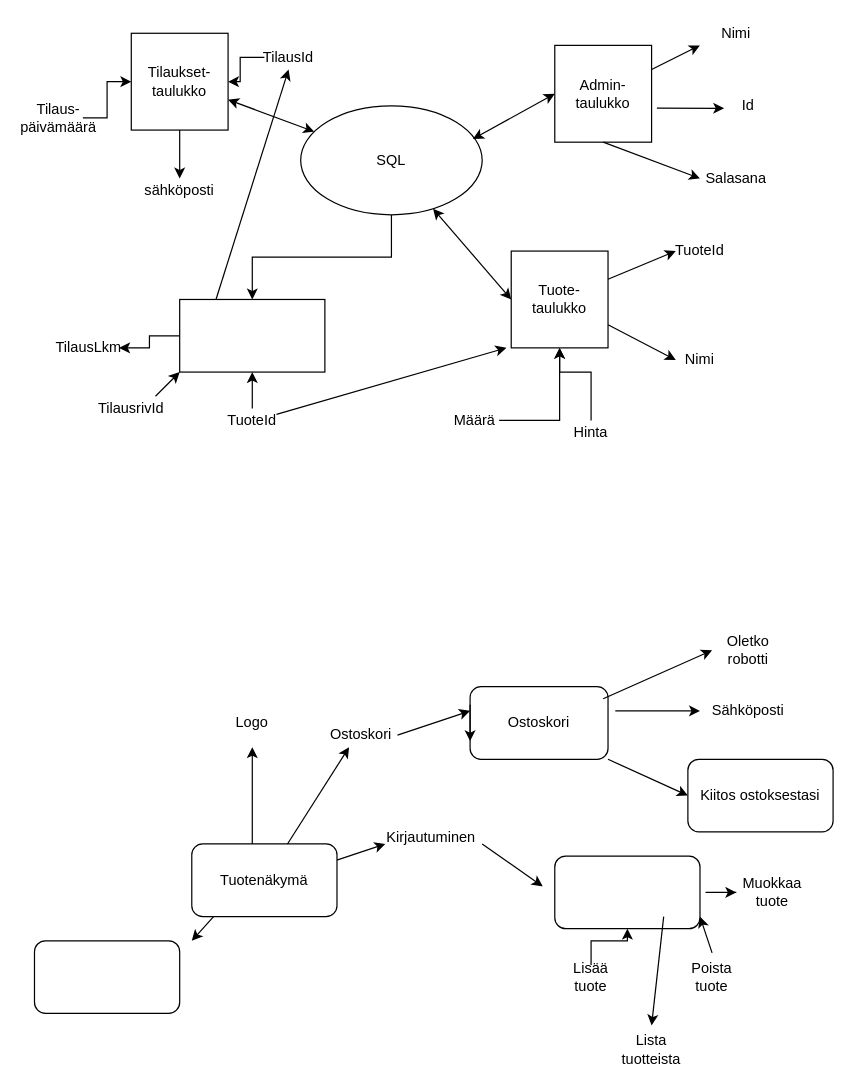
Some shapes in this 854 by 1088 pixel diagram are drawn without their labels. The shapes that lost their labels are listed below. From the top down, each one's centre as x and y in pixels, then its label:
At pixel 251 335: "Tilausrivi- taulukko".
At pixel 627 892: "Admin View".
At pixel 106 976: "Lisätietoja tuotteesta".
